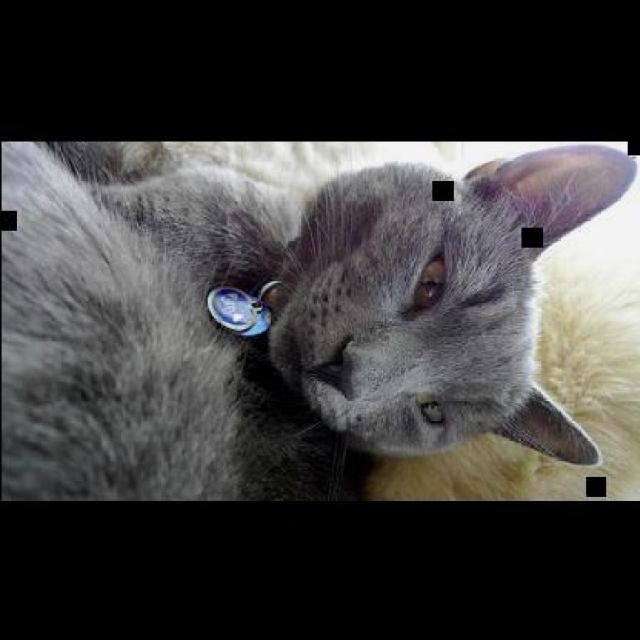unauthorized: (0, 140, 638, 500)
